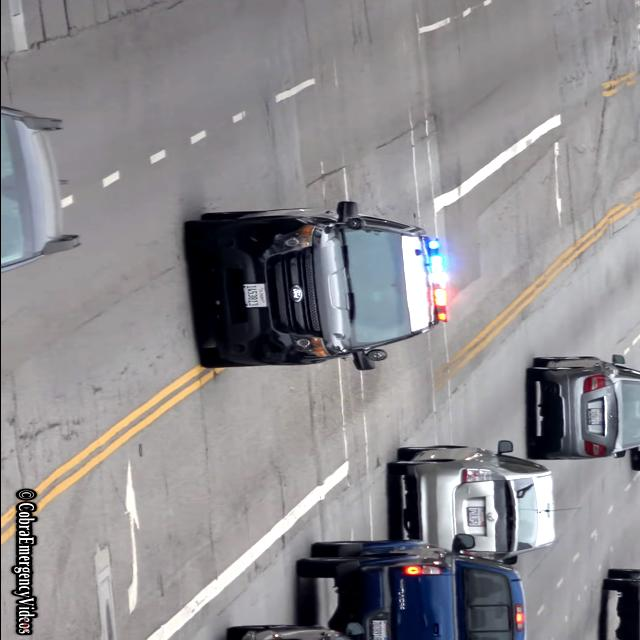emergency-vehicles: (184, 175, 452, 399)
